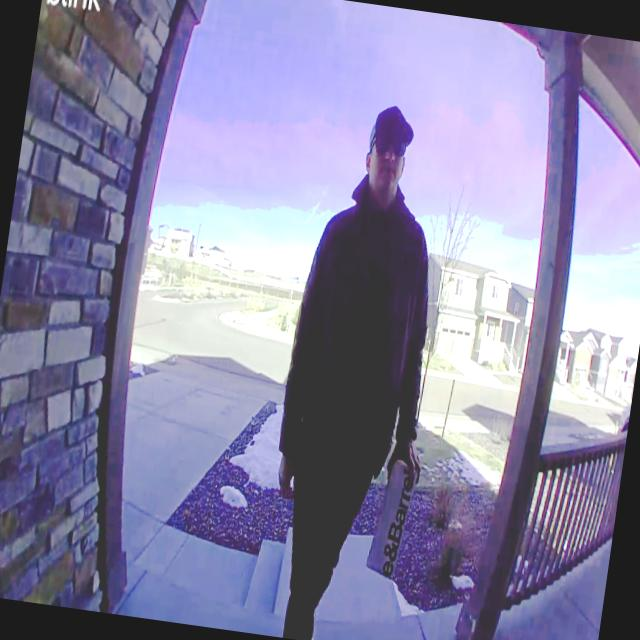Box: (363, 454, 422, 584)
